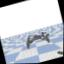drone: (22, 30, 51, 50)
